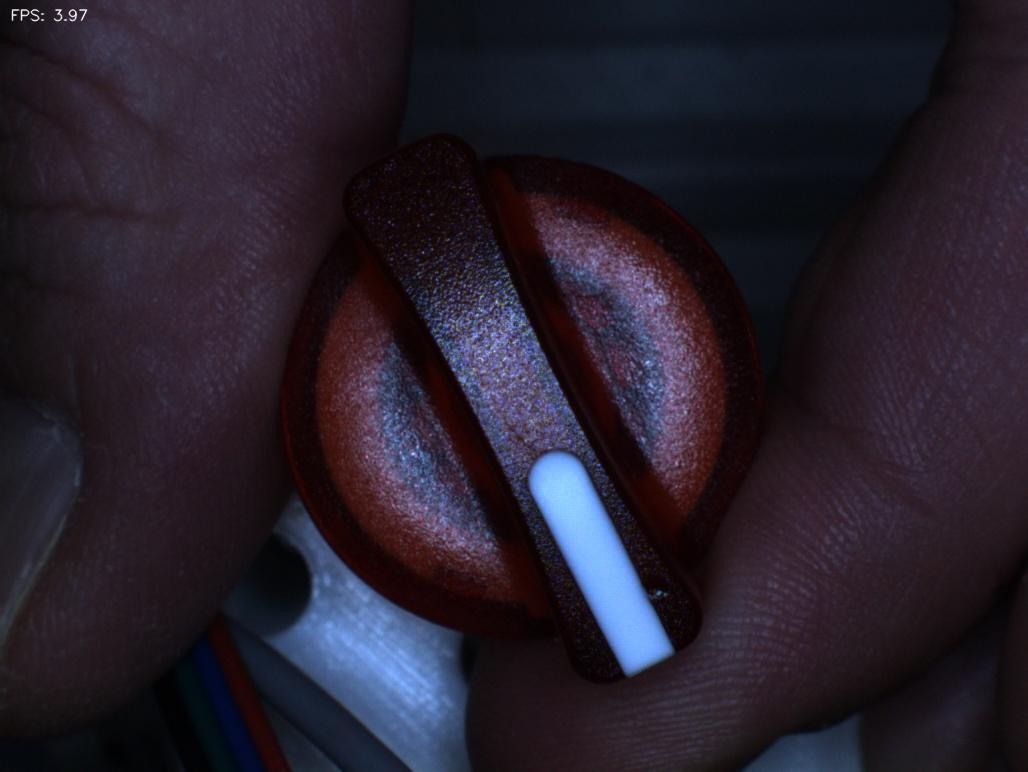Choc: (617, 542, 711, 642)
